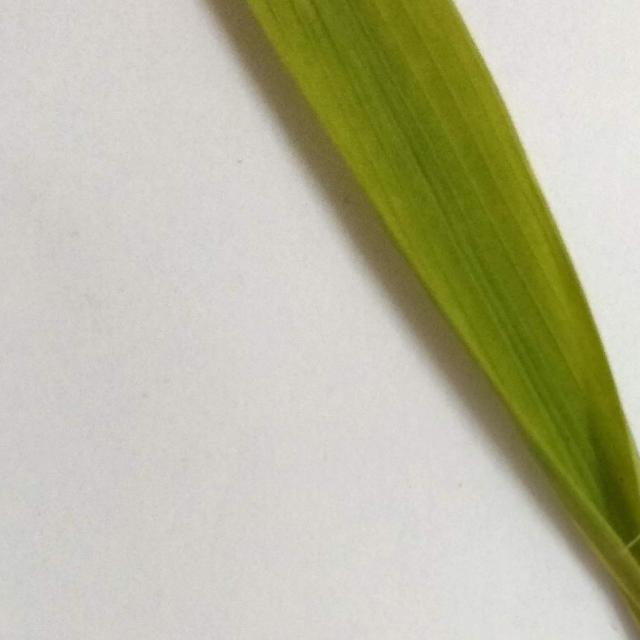healthy: (202, 0, 640, 640)
